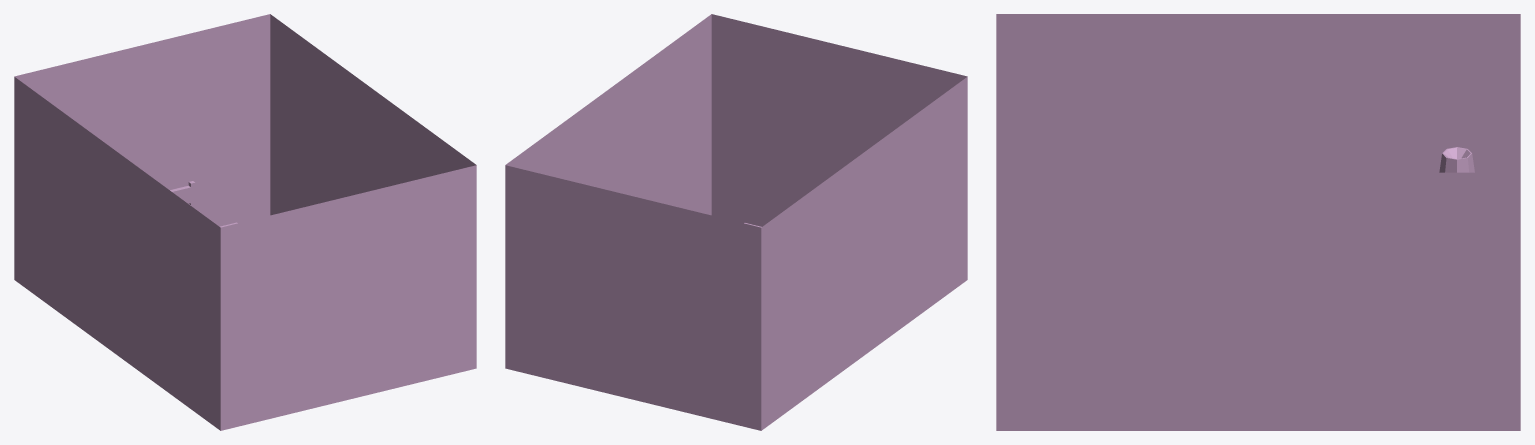
3 views of the same model, side by side, from view 1: azimuth 30°, elevation 25°; view 2: azimuth 150°, elevation 25°; view 3: azimuth 270°, elevation 25° (orthographic). The views are drawn at different scales.
Parts seen in each view (by area): view 1: Cube.001; view 2: Cube.001; view 3: Cube.001, Cylinder.
Part boxes in pixels (bbox=[...]): Cube.001: bbox=[14, 14, 476, 430]; Cube.001: bbox=[505, 14, 967, 430]; Cube.001: bbox=[996, 14, 1520, 430]; Cylinder: bbox=[1439, 147, 1474, 172].
Size of the model in its own units: 380 by 289 by 530.
